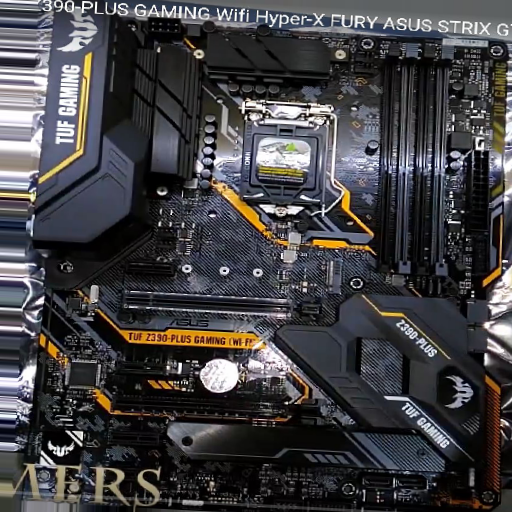CPU: (243, 100, 327, 220)
GPU: (112, 392, 327, 427), (119, 289, 329, 322)
MOTHERBOARD: (38, 2, 505, 512)
RAM: (374, 42, 455, 277)
SSD: (324, 258, 345, 297)
